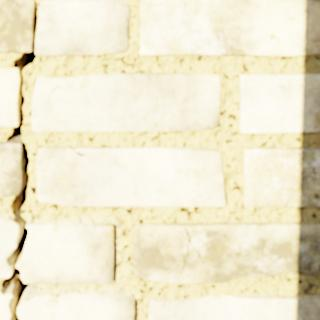brick: (133, 222, 319, 283), (37, 146, 225, 206), (32, 73, 220, 131), (140, 0, 319, 55), (36, 0, 129, 54), (239, 74, 319, 132), (243, 147, 319, 206), (147, 294, 319, 319), (0, 0, 33, 51), (0, 142, 22, 196), (0, 68, 19, 126)
broken_brick: (18, 221, 114, 284), (19, 292, 135, 319), (0, 217, 18, 278), (0, 287, 12, 319)
crack: (0, 0, 39, 319), (70, 147, 85, 157), (140, 0, 161, 6)
